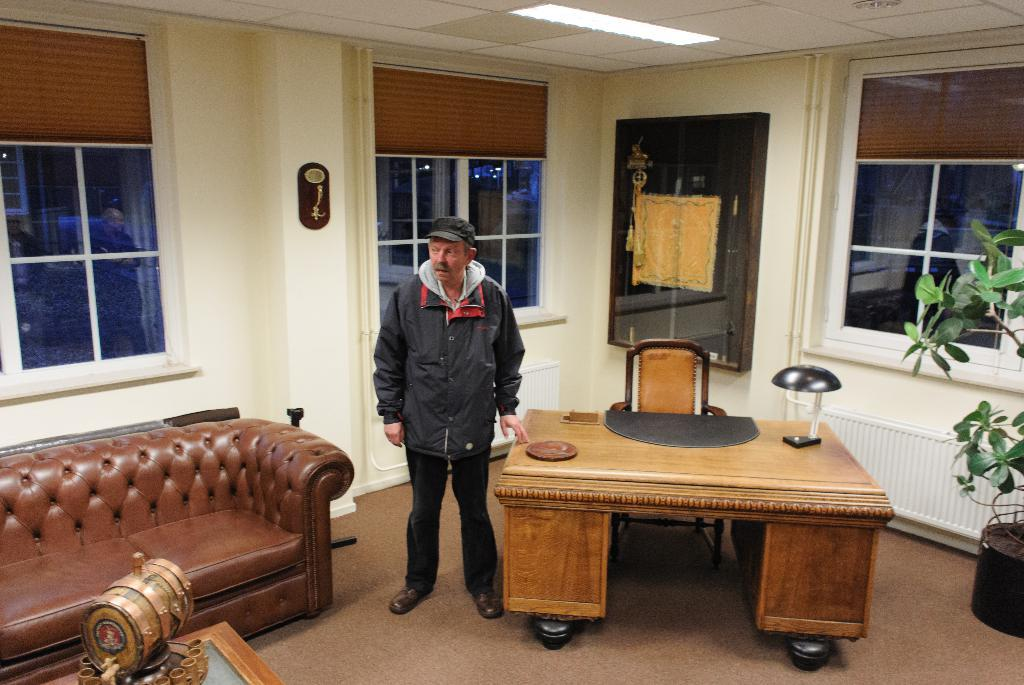Chair: (612, 350, 723, 553)
